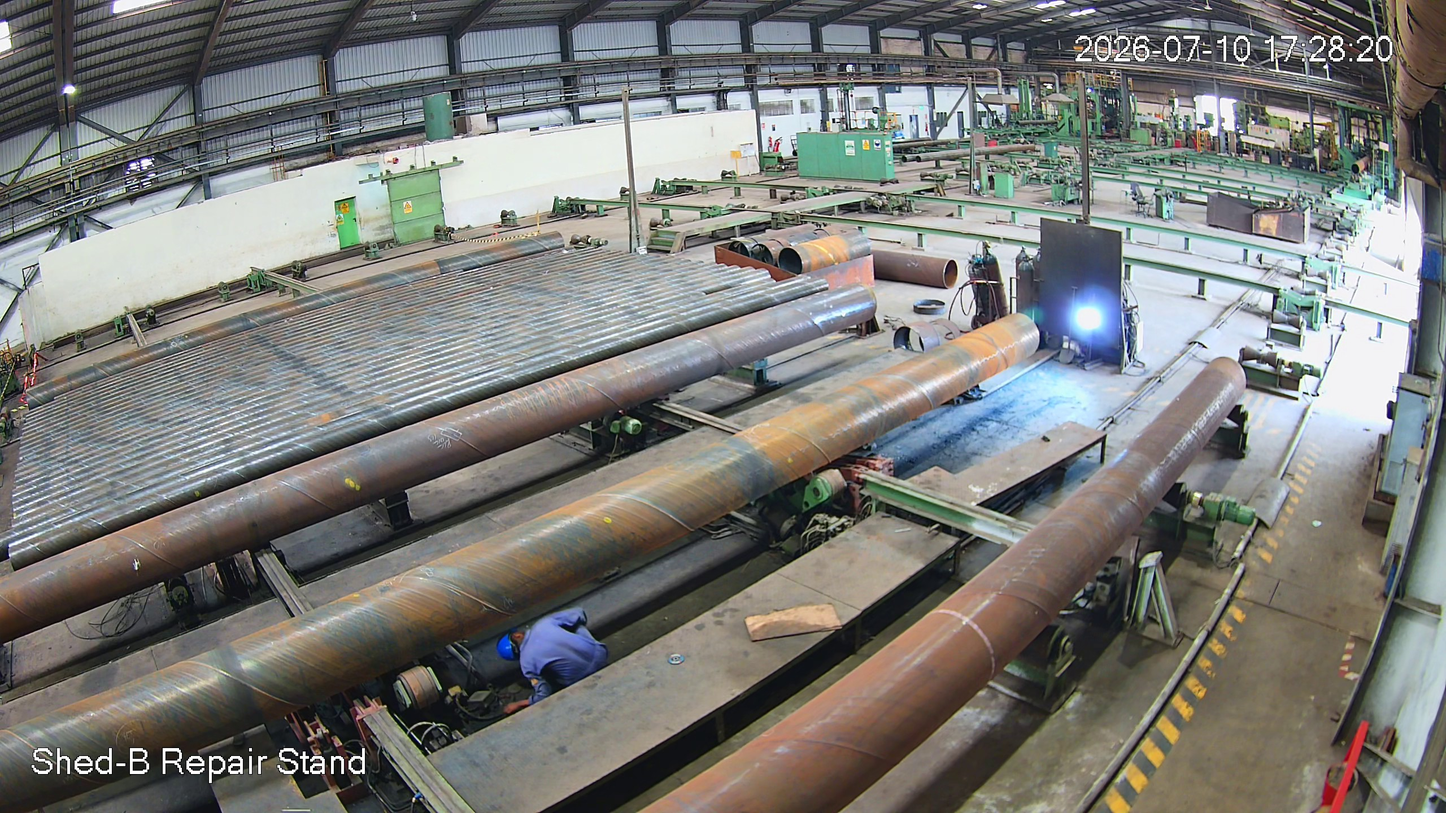Helmet: (495, 628, 534, 670)
Person: (499, 604, 635, 722)
